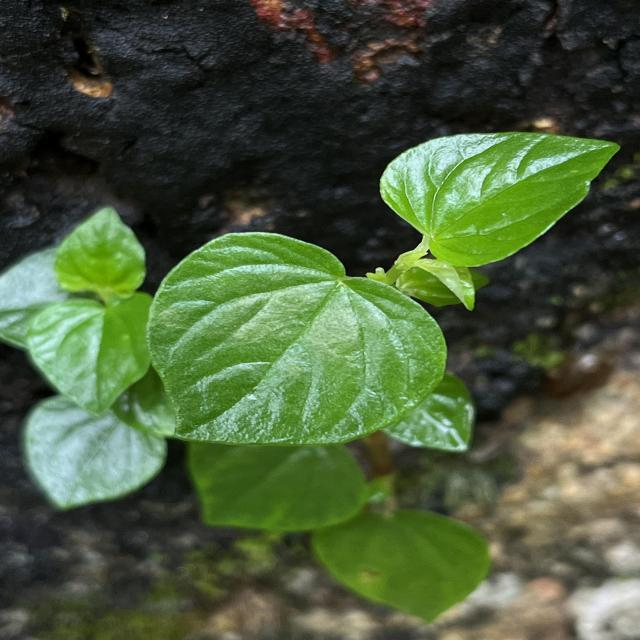Peperomia pellucida: (143, 226, 452, 451), (375, 127, 625, 270)
